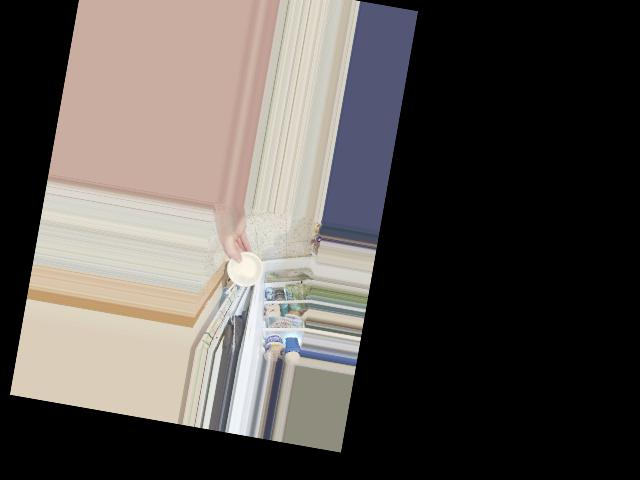cotage: (226, 253, 263, 289)
